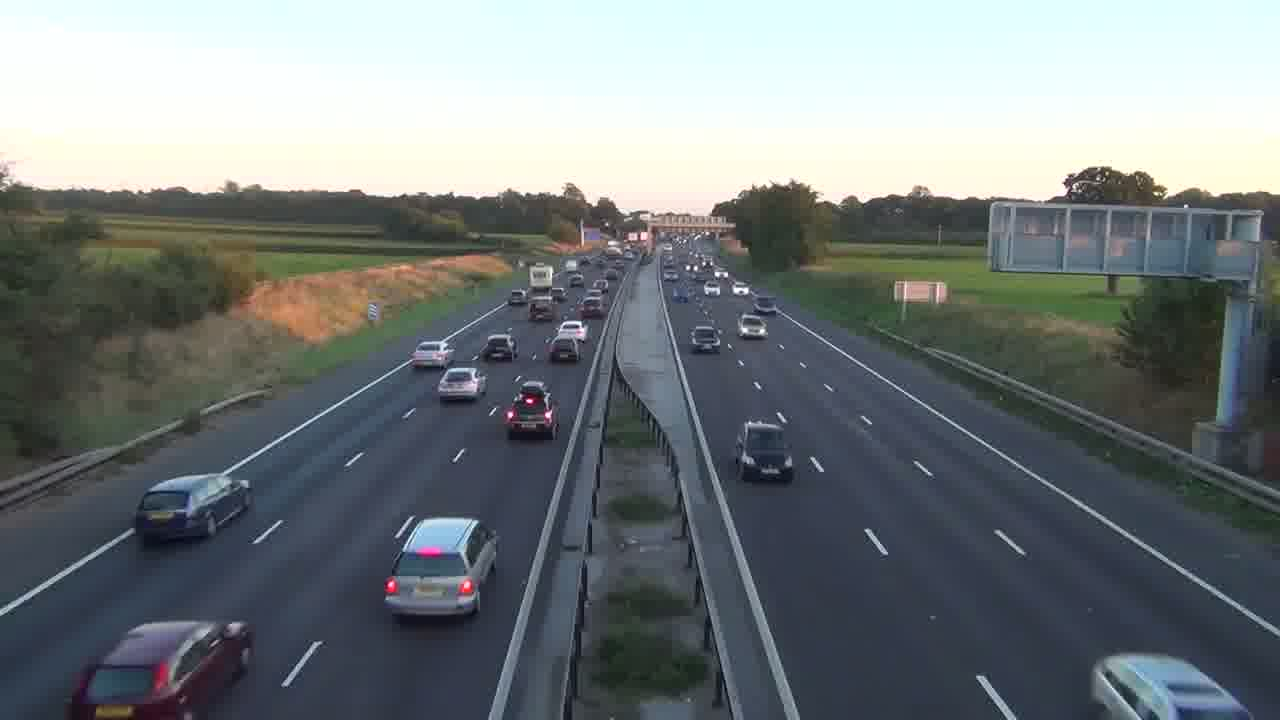car: (65, 619, 256, 718), (382, 514, 500, 620), (1089, 652, 1252, 719), (134, 473, 254, 543), (735, 419, 795, 483), (505, 395, 559, 440), (435, 366, 486, 402), (689, 325, 722, 354), (483, 334, 516, 362), (548, 335, 581, 363)
truck: (529, 264, 555, 290)
